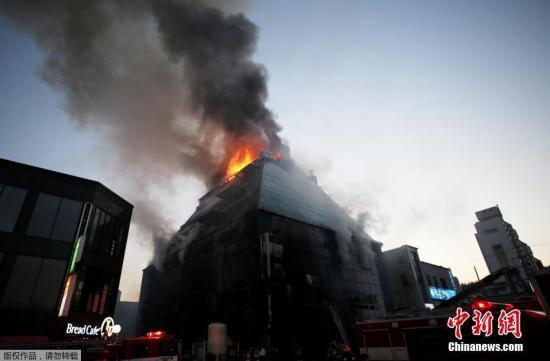fire: (216, 135, 275, 186)
